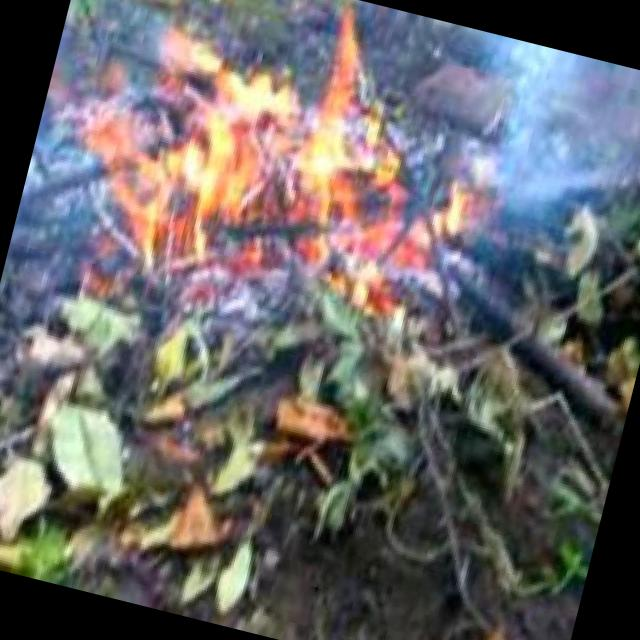Fire: (1, 0, 538, 389)
